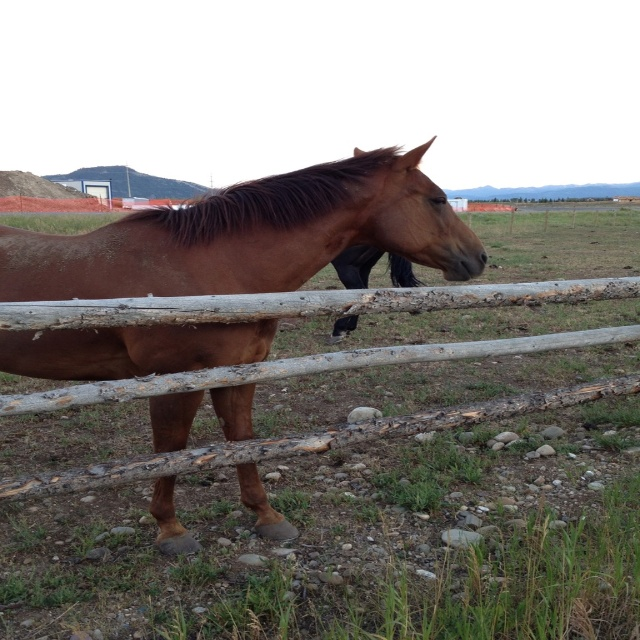Horse: (0, 135, 488, 556)
